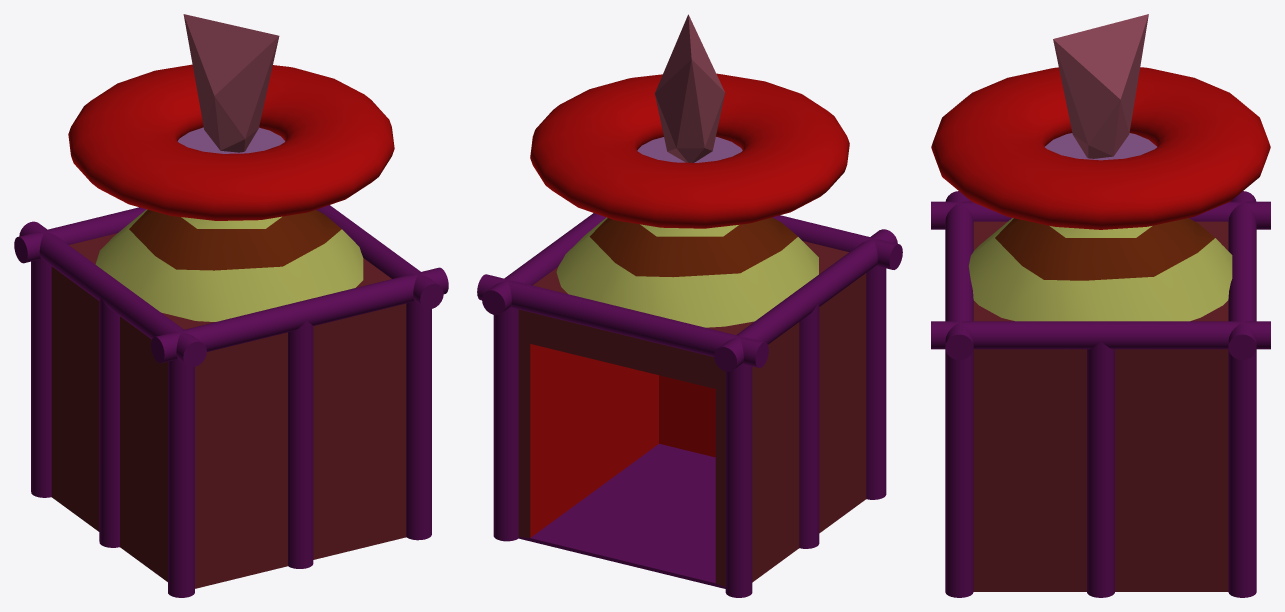
File: order temple.fbx
3 renders of one model, left to right at view 1: azimuth 30°, elevation 25°; view 2: azimuth 150°, elevation 25°; view 3: azimuth 270°, elevation 25°, orthographic. The views are drawn at different scales.
Parts seen in each view (by area): view 1: pCube1, pTorus1, pDisc1, pPlatonic1, pCylinder9, pCylinder4, pCylinder7, pCylinder1, pCylinder11, pCylinder5, pCylinder2, pCylinder10 (+2 smaller); view 2: pCube1, pTorus1, pDisc1, pCylinder8, pPlatonic1, pCylinder2, pCylinder3, pCylinder11, pCylinder5, pCylinder4, pCylinder10, pCylinder9 (+1 smaller); view 3: pCube1, pTorus1, pDisc1, pPlatonic1, pCylinder10, pCylinder6, pCylinder1, pCylinder3, pCylinder9, pCylinder8, pCylinder11, pCone1.
Boxes of the visible parts, <box> form: pCube1: <box>51,233,406,588</box>; pTorus1: <box>68,64,394,220</box>; pDisc1: <box>95,209,363,321</box>; pPlatonic1: <box>183,14,279,152</box>; pCylinder9: <box>151,267,448,363</box>; pCylinder4: <box>168,358,194,597</box>; pCylinder7: <box>288,320,313,568</box>; pCylinder1: <box>406,301,431,540</box>; pCylinder11: <box>19,221,206,366</box>; pCylinder5: <box>99,297,119,547</box>; pCylinder2: <box>31,258,51,497</box>; pCylinder10: <box>316,205,443,309</box>; pCube1: <box>518,241,866,588</box>; pTorus1: <box>530,73,849,228</box>; pDisc1: <box>556,217,818,327</box>; pCylinder8: <box>477,274,768,367</box>; pPlatonic1: <box>654,14,725,162</box>; pCylinder2: <box>725,363,752,597</box>; pCylinder3: <box>493,307,518,541</box>; pCylinder11: <box>714,229,897,371</box>; pCylinder5: <box>799,303,819,548</box>; pCylinder4: <box>866,265,886,499</box>; pCylinder10: <box>482,213,605,314</box>; pCylinder9: <box>772,215,902,269</box>; pCube1: <box>973,221,1228,591</box>; pTorus1: <box>931,67,1270,229</box>; pDisc1: <box>968,218,1232,321</box>; pPlatonic1: <box>1053,14,1148,158</box>; pCylinder10: <box>931,321,1270,349</box>; pCylinder6: <box>1087,341,1114,597</box>; pCylinder1: <box>945,349,973,597</box>; pCylinder3: <box>1228,349,1256,597</box>; pCylinder9: <box>945,191,973,360</box>; pCylinder8: <box>1228,191,1256,360</box>; pCylinder11: <box>931,201,1270,229</box>; pCone1: <box>1045,133,1156,160</box>.
Bounding box in the file's own units: 12 × 19.71 × 12.
